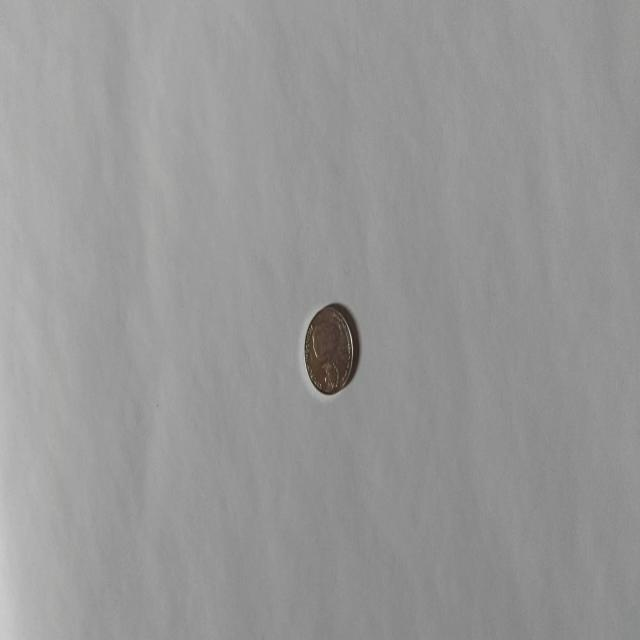seratus rupiah: (303, 302, 353, 395)
